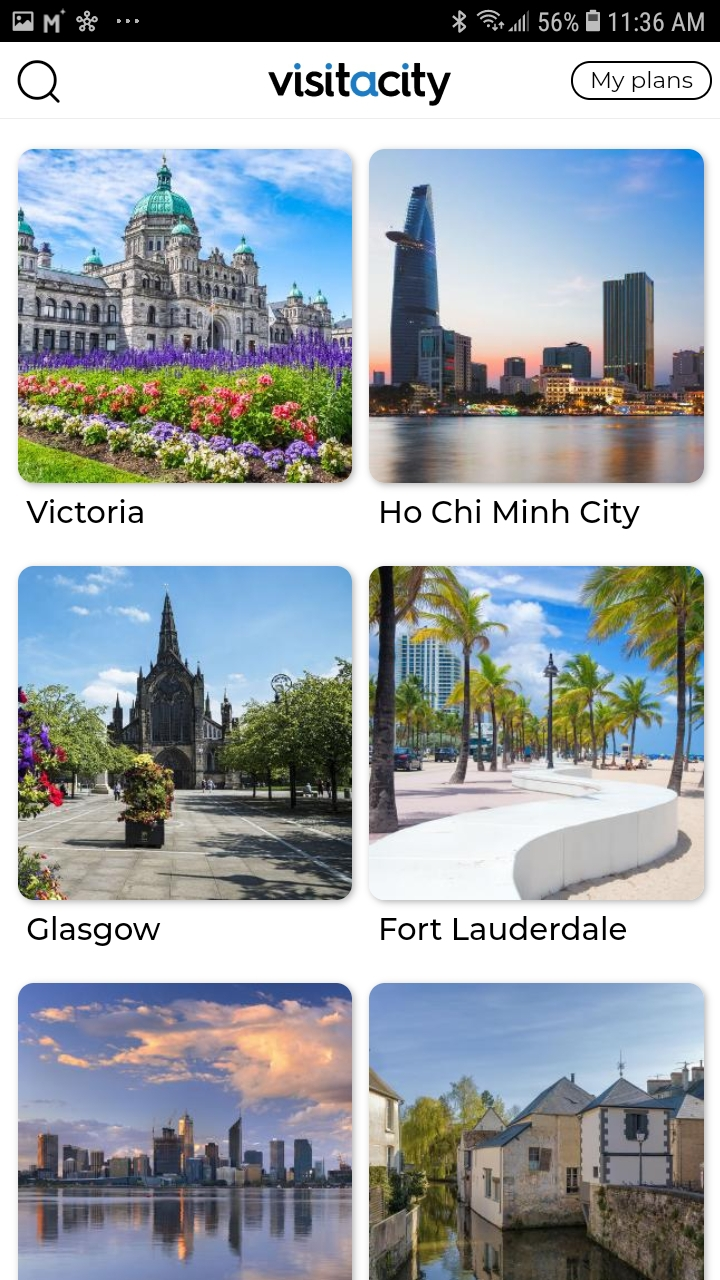Icon: (18, 60, 62, 104)
Image: (369, 566, 705, 901), (18, 566, 353, 901), (369, 149, 704, 484), (19, 149, 353, 484), (19, 982, 353, 1280), (369, 983, 704, 1280), (268, 63, 452, 107)
Text: (381, 498, 641, 530), (381, 915, 627, 941), (28, 915, 161, 947), (27, 499, 145, 524)
TextButton: (571, 62, 713, 102)
UpperTaskBar: (1, 1, 720, 43)
